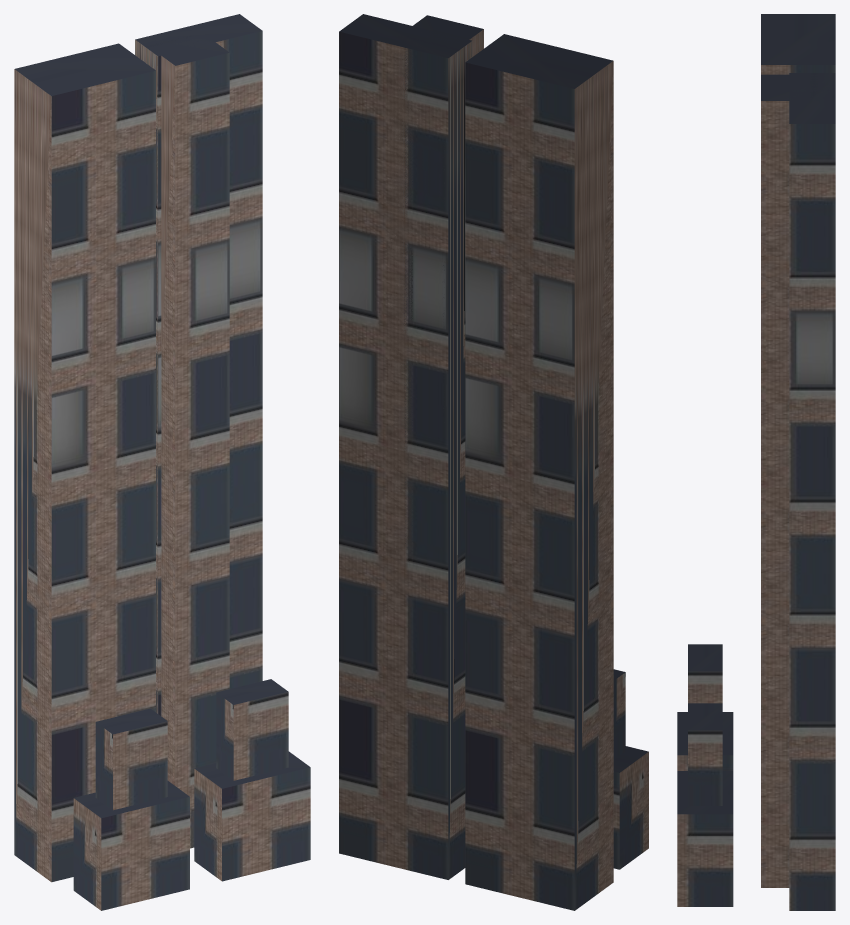
The model's file is city_block_12345_6_25.glb.
The picture shows the model from 3 angles, left to right: view 1: azimuth 30°, elevation 25°; view 2: azimuth 150°, elevation 25°; view 3: azimuth 270°, elevation 25°; orthographic projection. The views are drawn at different scales.
Visible parts, largest first — view 1: block_25; view 2: block_25; view 3: block_25.
Part boxes in pixels (x1,y1,x2,y2): block_25: [14, 14, 310, 910]; block_25: [339, 14, 648, 910]; block_25: [677, 14, 835, 910].
Bounding box in the file's own units: 4.2 × 14 × 2.55.
Materials: 4 (4 with a texture image).
